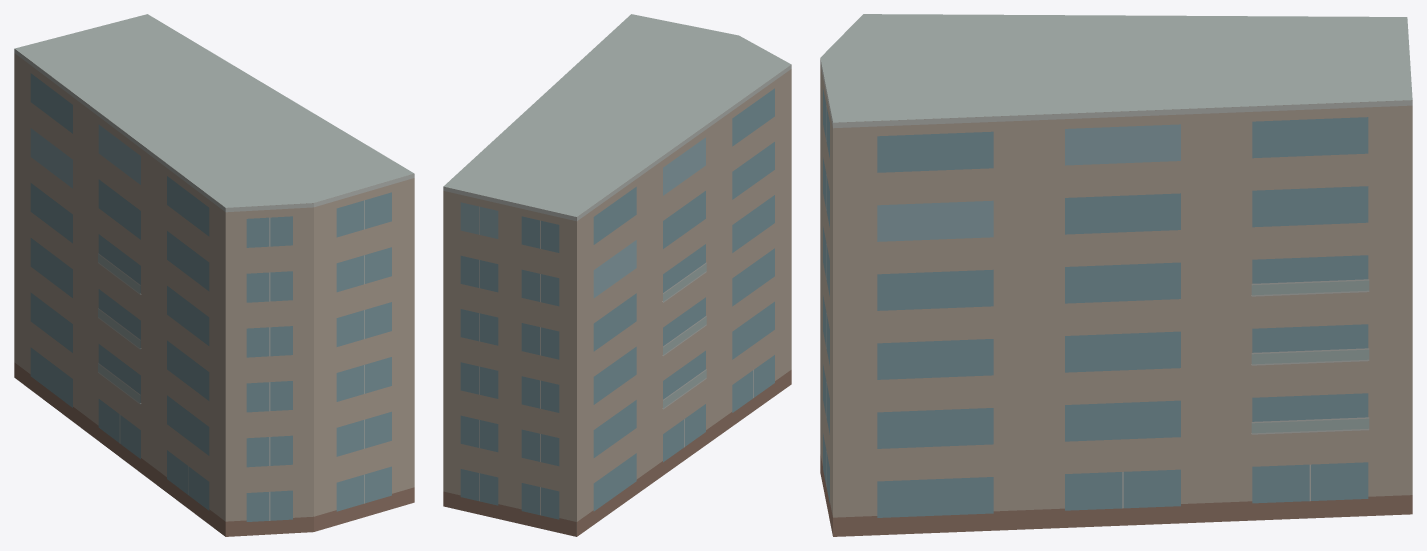
Rendered from survey-upis-33002352.glb.
The picture shows the model from 3 angles, left to right: view 1: azimuth 30°, elevation 25°; view 2: azimuth 150°, elevation 25°; view 3: azimuth 270°, elevation 25°; orthographic projection. The views are drawn at different scales.
Visible parts, largest first — view 1: survey-upis-33002352.tmp; view 2: survey-upis-33002352.tmp; view 3: survey-upis-33002352.tmp.
Part boxes in pixels (box(x1,y1,x2,y2)): survey-upis-33002352.tmp: box(14, 14, 414, 536); survey-upis-33002352.tmp: box(443, 14, 791, 536); survey-upis-33002352.tmp: box(820, 14, 1412, 536).
Bounding box in the file's own units: 10.31 × 18.3 × 23.73.
